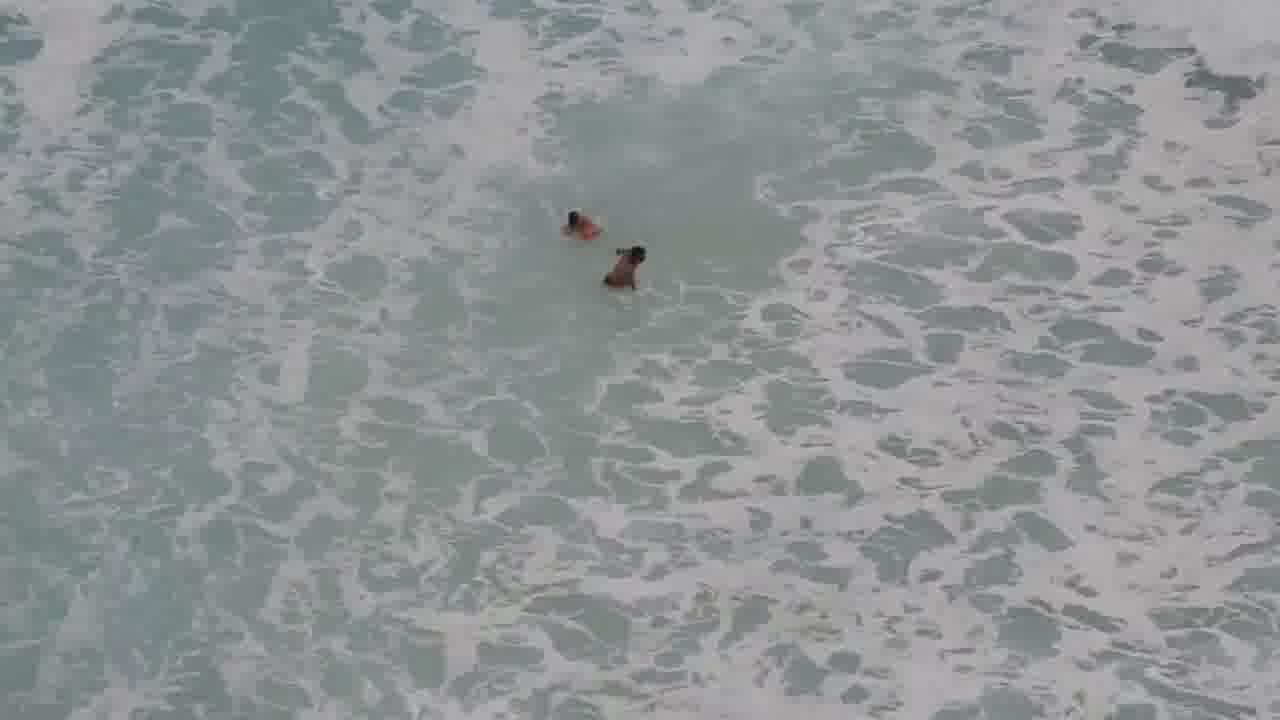human: (604, 239, 651, 295), (552, 195, 597, 240)
